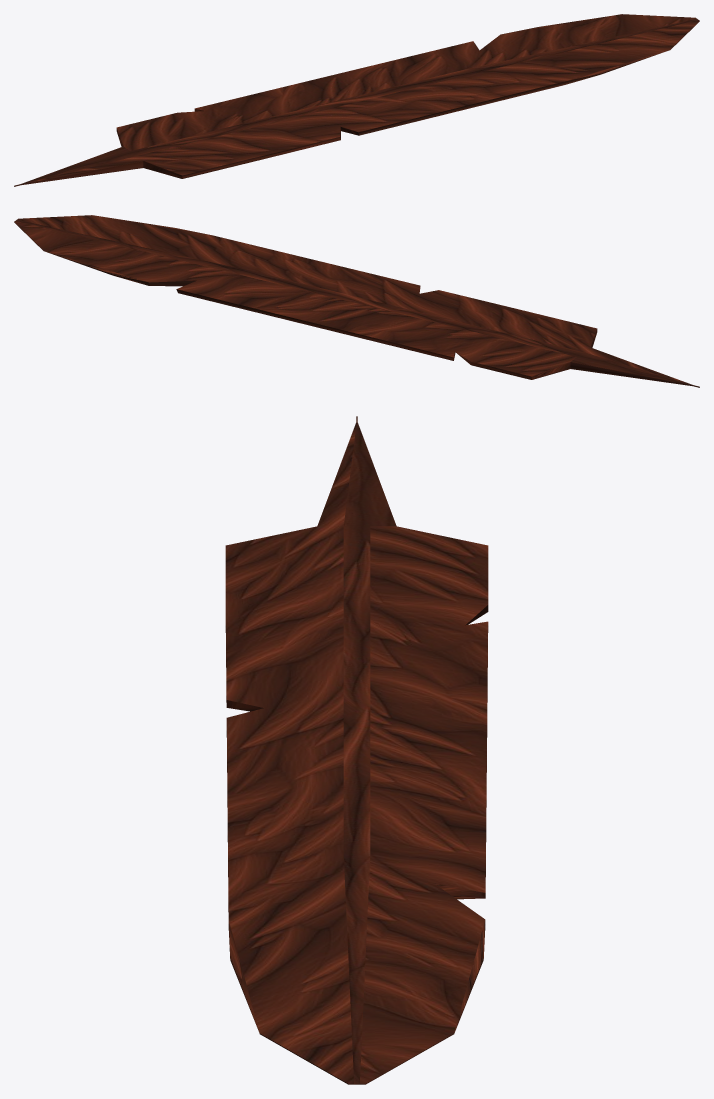
Rendered from feather.fbx.
The picture shows the model from 3 angles, top to bottom: view 1: azimuth 30°, elevation 25°; view 2: azimuth 150°, elevation 25°; view 3: azimuth 270°, elevation 25°; orthographic projection. The views are drawn at different scales.
Visible parts, largest first — view 1: Cube.001; view 2: Cube.001; view 3: Cube.001.
Boxes of the visible parts, x1,y1,x2,y2 form: Cube.001: (14, 14, 699, 186); Cube.001: (14, 215, 699, 387); Cube.001: (225, 416, 488, 1084).
Size of the model in its own units: 54.88 by 0.5487 by 9.12.
1 material, 1 textured.
